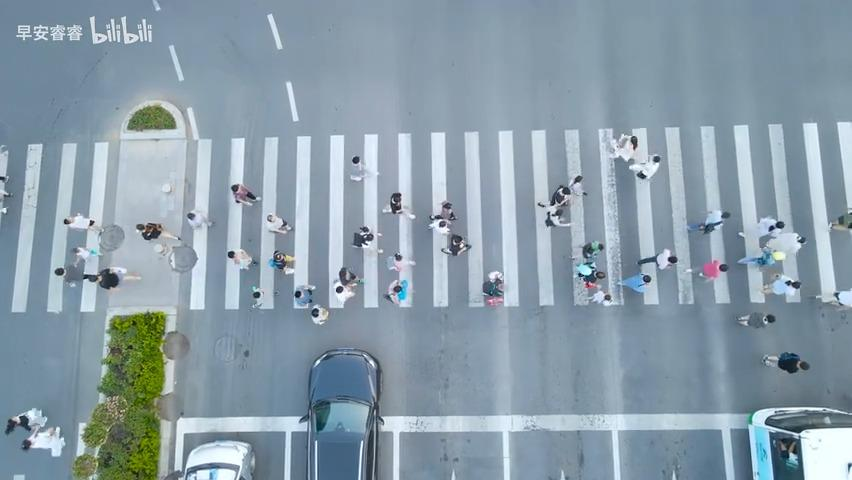Civilian: (5, 407, 57, 449), (82, 266, 141, 290), (238, 280, 277, 311), (334, 266, 362, 308), (685, 209, 730, 235), (761, 351, 810, 373), (542, 206, 574, 237), (684, 259, 729, 281), (381, 192, 416, 220), (760, 273, 801, 296), (636, 248, 678, 270), (135, 221, 181, 241), (351, 225, 383, 253), (628, 153, 661, 180), (566, 161, 590, 196), (608, 133, 638, 161), (63, 212, 102, 233), (349, 155, 379, 182), (540, 182, 570, 209), (737, 245, 775, 266), (230, 182, 261, 207), (440, 233, 471, 256), (734, 311, 775, 328), (615, 273, 651, 292), (227, 248, 257, 270), (428, 200, 457, 221), (265, 212, 292, 234), (268, 250, 295, 272), (186, 209, 215, 229), (70, 245, 102, 263), (386, 252, 416, 271), (482, 270, 503, 297), (384, 279, 405, 305), (828, 210, 851, 232), (775, 436, 796, 459), (294, 284, 315, 307), (581, 240, 604, 259), (310, 304, 329, 324), (588, 290, 612, 305), (833, 289, 851, 307), (0, 175, 12, 197)
